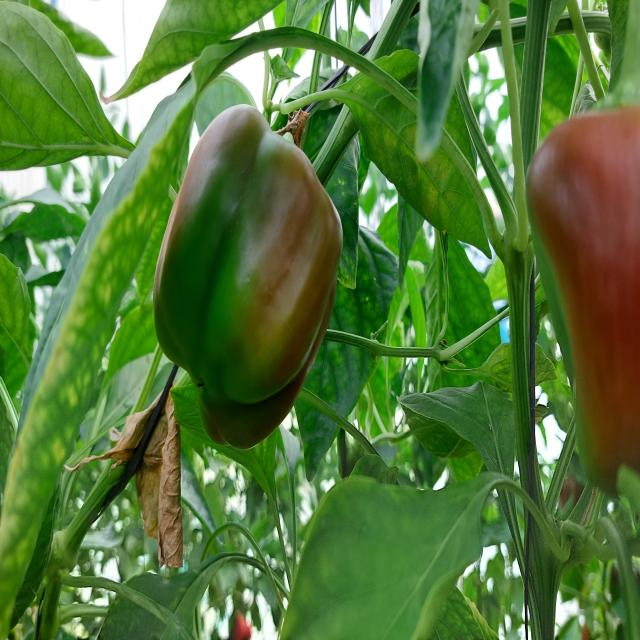BrownishRed--Can-be-Harvested: (178, 113, 335, 460), (529, 93, 640, 492)
